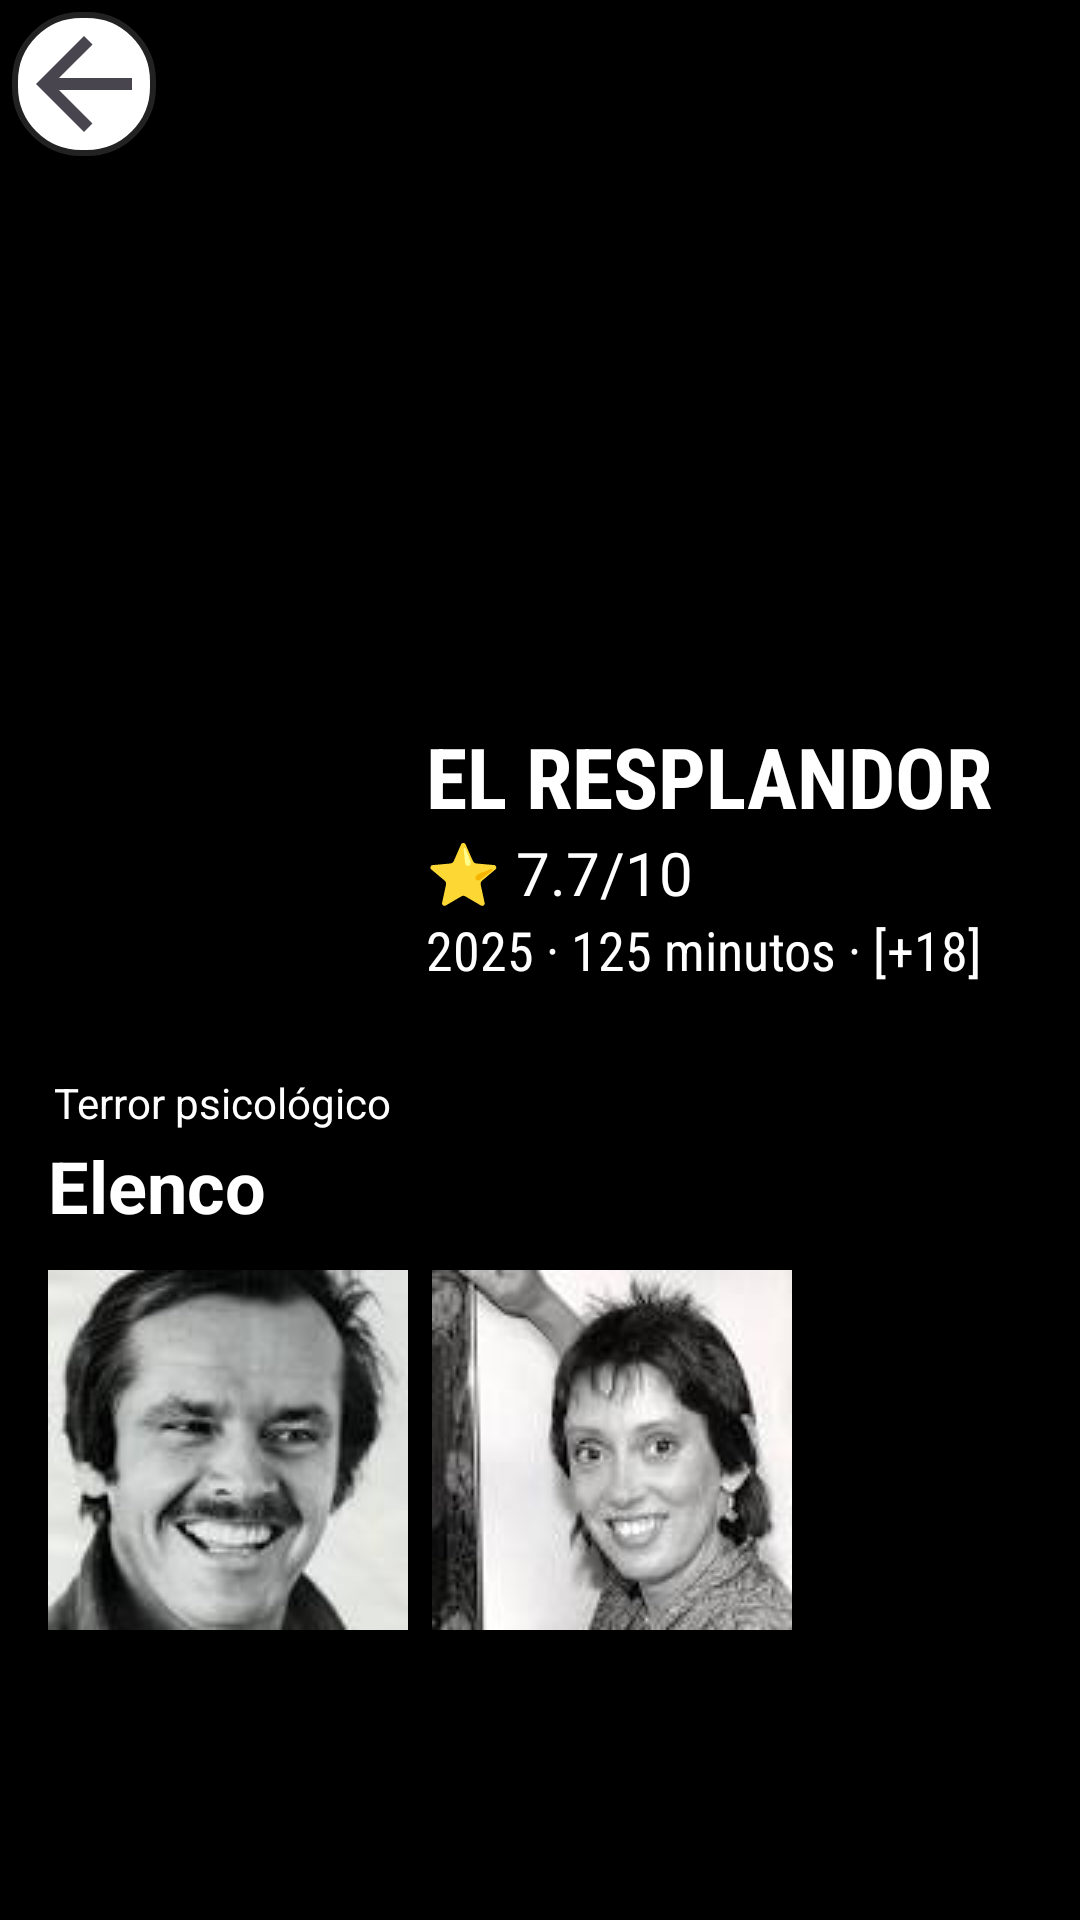

Screen size 1080px x 1920px. Icon name, then its box in pixels as box=[x1, y1, x2, y2]:
Volver: box=[12, 12, 156, 156]
